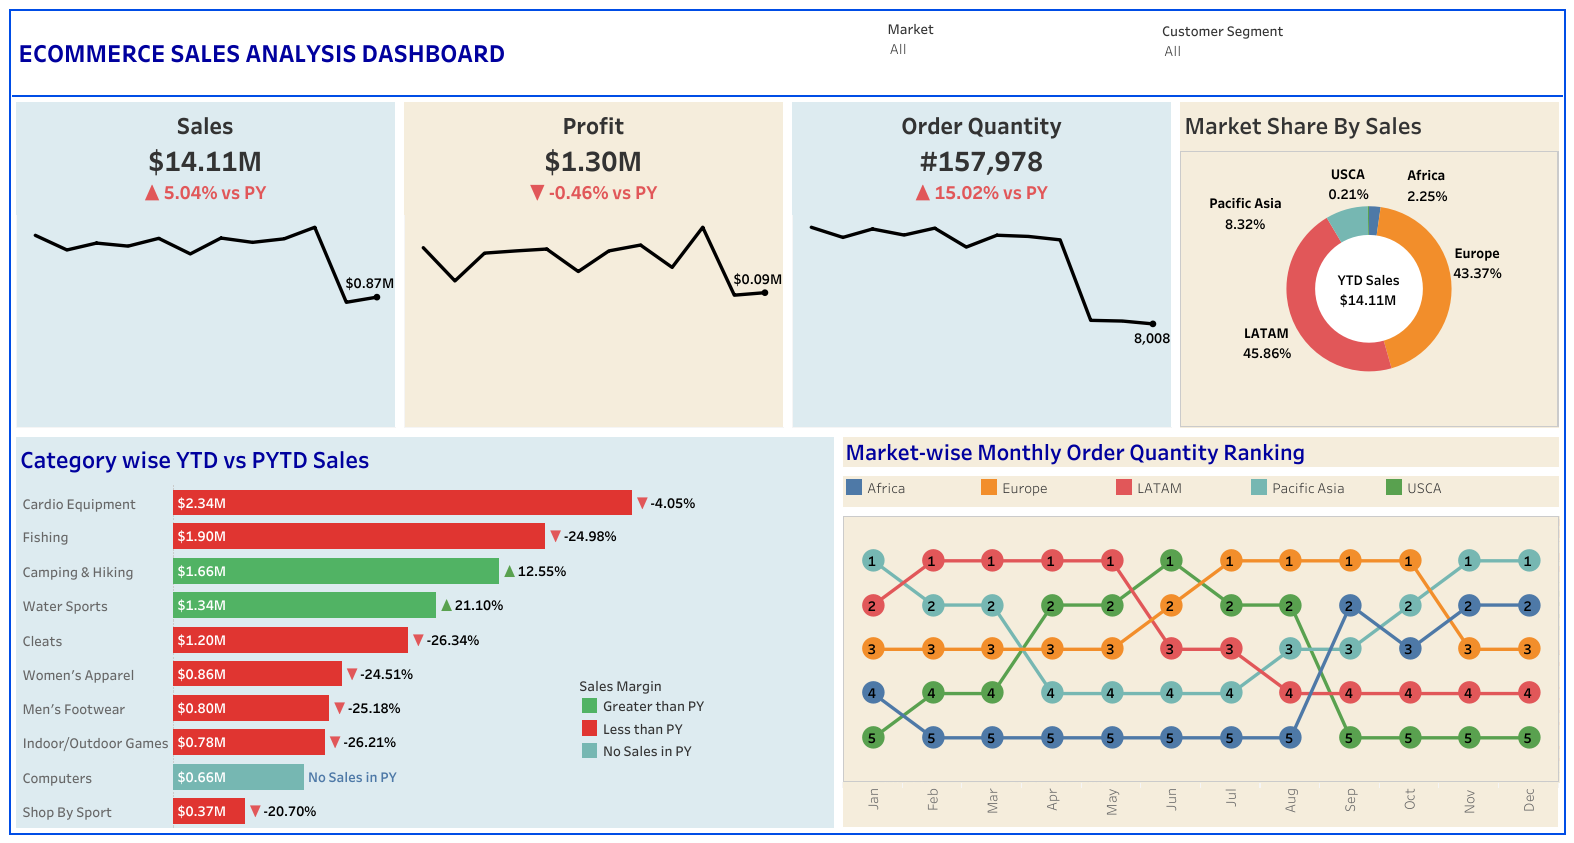

Layout of this report page (visuals, bound fields, positions):
{"tool":"tableau","page":{"name":"Ecommerce Sales","canvas":[1400,750],"ordinal":0},"visuals":[{"type":"title","box":[10,10,1380,73]},{"type":"filter","title":"Sales KPI","param":"[federated.0xivz0w0px6b0v1850sdw1d8f0vs].[none:Market:nk]","box":[789,15,230,58]},{"type":"filter","title":"Sales KPI","param":"[federated.0xivz0w0px6b0v1850sdw1d8f0vs].[none:Customer Segment:nk]","box":[1033,17,233,54]},{"type":"blank","box":[10,83,1380,4]},{"type":"worksheet","title":"Sales KPI","mark":"Automatic","rows":["Sales"],"cols":["Order Date"],"box":[10,87,345,297]},{"type":"worksheet","title":"Profit KPI ","mark":"Automatic","rows":["Profit Per Order"],"cols":["Order Date"],"box":[355,87,345,297]},{"type":"worksheet","title":"Order Quantity KPI","mark":"Automatic","rows":["Order Quantity"],"cols":["Order Date"],"box":[700,87,345,297]},{"type":"worksheet","title":"Market Share By Sales","mark":"Pie","cols":["Calculation_1586674490868973583","Calculation_1586674490868994065"],"box":[1045,87,345,297]},{"type":"worksheet","title":"Category wise YTD vs PYTD Sales","mark":"Bar","rows":["Category Name"],"cols":["Calculation_1586674490869882898","Calculation_1586674490869882898"],"box":[10,384,735,355.9]},{"type":"text","box":[745,384,645,46]},{"type":"legend","title":"Market-wise Monthly Order Quantity Ranking","param":"[federated.0xivz0w0px6b0v1850sdw1d8f0vs].[none:Market:nk]","box":[745,430,645,36]},{"type":"worksheet","title":"Market-wise Monthly Order Quantity Ranking","mark":"Automatic","cols":["Order Date"],"box":[745,466,645,273.9]},{"type":"legend","title":"Category wise YTD vs PYTD Sales","param":"[federated.0xivz0w0px6b0v1850sdw1d8f0vs].[usr:Calculation_1586674490876542997:nk","box":[514,598,191,111]}]}

Visuals, with their boxes in screenshot pixels (x1, y1, x2, y2), scaled from the page's 1400x750 canvas onto the 1574x843 screenshot:
title: [11, 11, 1563, 93]
"Sales KPI" filter: [887, 17, 1146, 82]
"Sales KPI" filter: [1161, 19, 1423, 80]
blank: [11, 93, 1563, 98]
"Sales KPI" worksheet: [11, 98, 399, 432]
"Profit KPI " worksheet: [399, 98, 787, 432]
"Order Quantity KPI" worksheet: [787, 98, 1175, 432]
"Market Share By Sales" worksheet (Pie marks): [1175, 98, 1563, 432]
"Category wise YTD vs PYTD Sales" worksheet (Bar marks): [11, 432, 838, 832]
text: [838, 432, 1563, 483]
"Market-wise Monthly Order Quantity Ranking" legend: [838, 483, 1563, 524]
"Market-wise Monthly Order Quantity Ranking" worksheet: [838, 524, 1563, 832]
"Category wise YTD vs PYTD Sales" legend: [578, 672, 793, 797]
